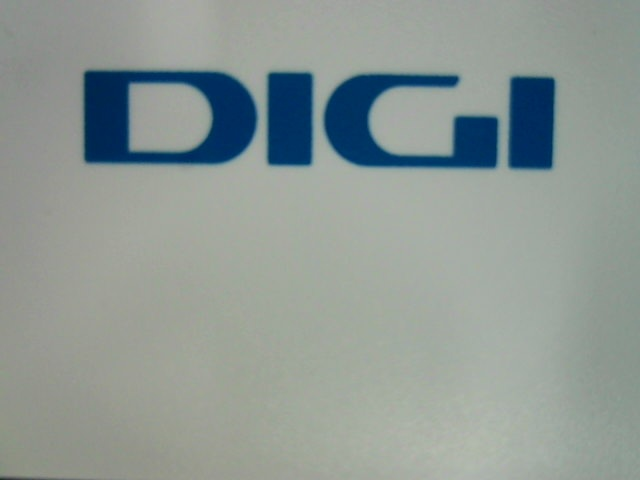BL_DIGI: (71, 58, 564, 175)
